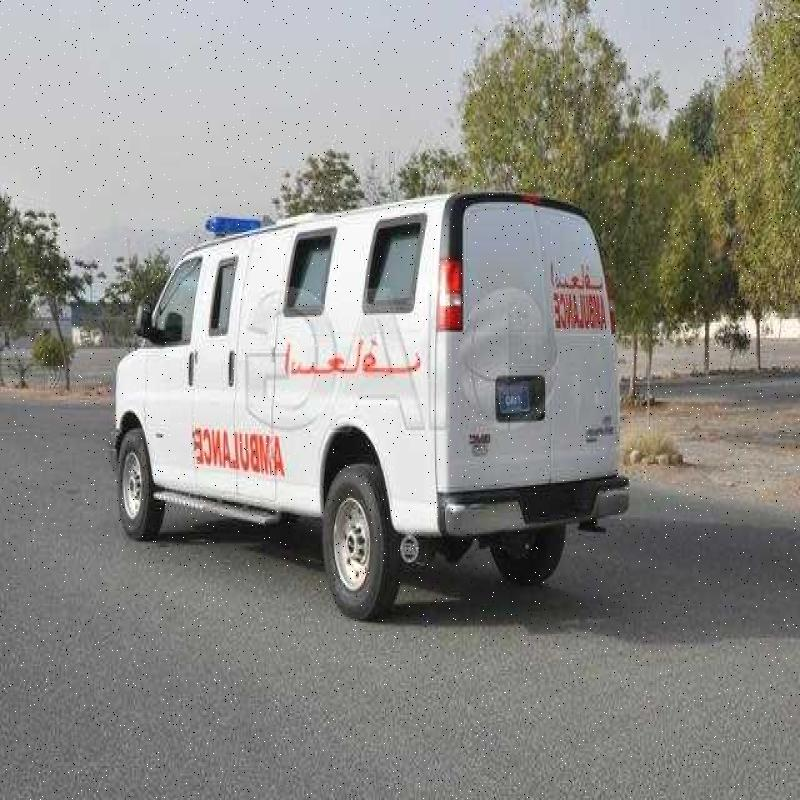AmbulanceSiren: (185, 183, 289, 271)
